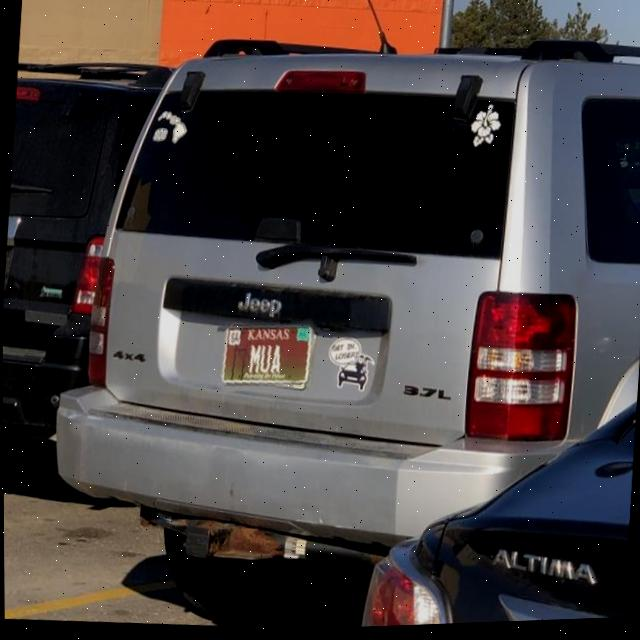LicensePlate: (220, 327, 313, 388)
